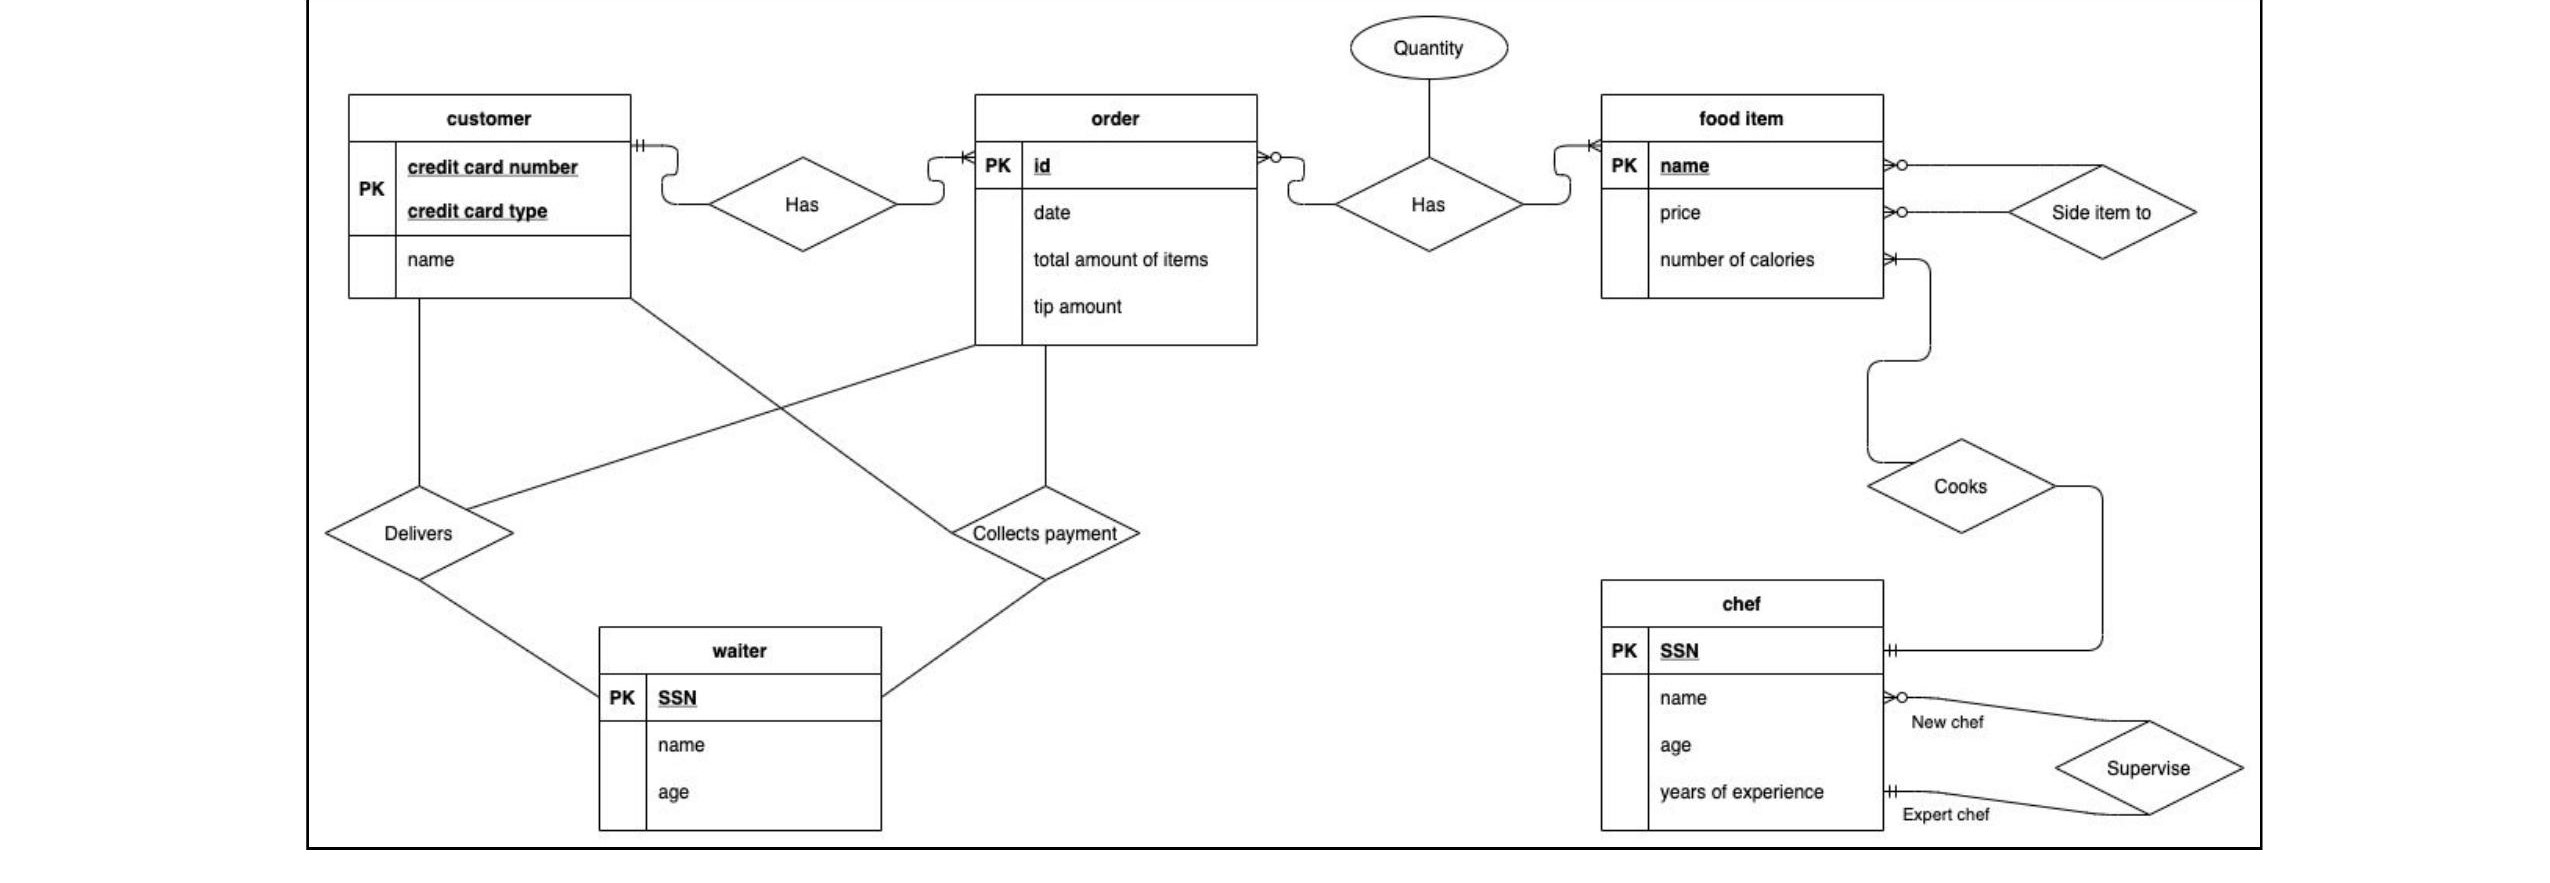Attribute: (1350, 16, 1509, 80)
Entity: (973, 93, 1260, 350), (1599, 577, 1886, 834), (346, 93, 634, 302), (597, 624, 885, 834), (1599, 91, 1886, 301)
Relationship: (2054, 719, 2246, 820), (1867, 439, 2056, 537), (707, 156, 896, 254), (2007, 164, 2195, 260), (1334, 158, 1522, 254), (325, 486, 514, 581), (951, 486, 1140, 581)
